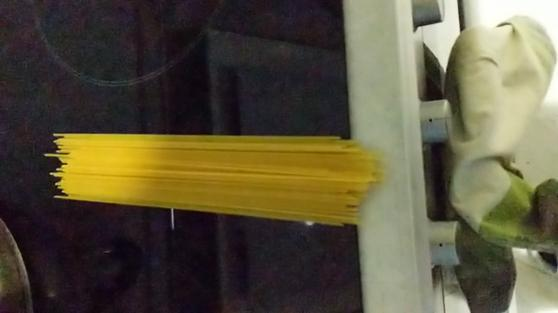spaghetti: (39, 119, 396, 231)
